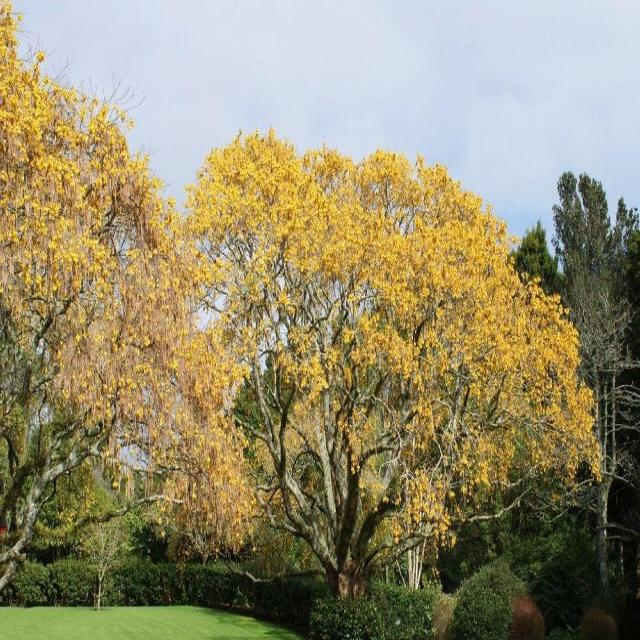Kowhai: (54, 126, 602, 598), (1, 1, 265, 596)
